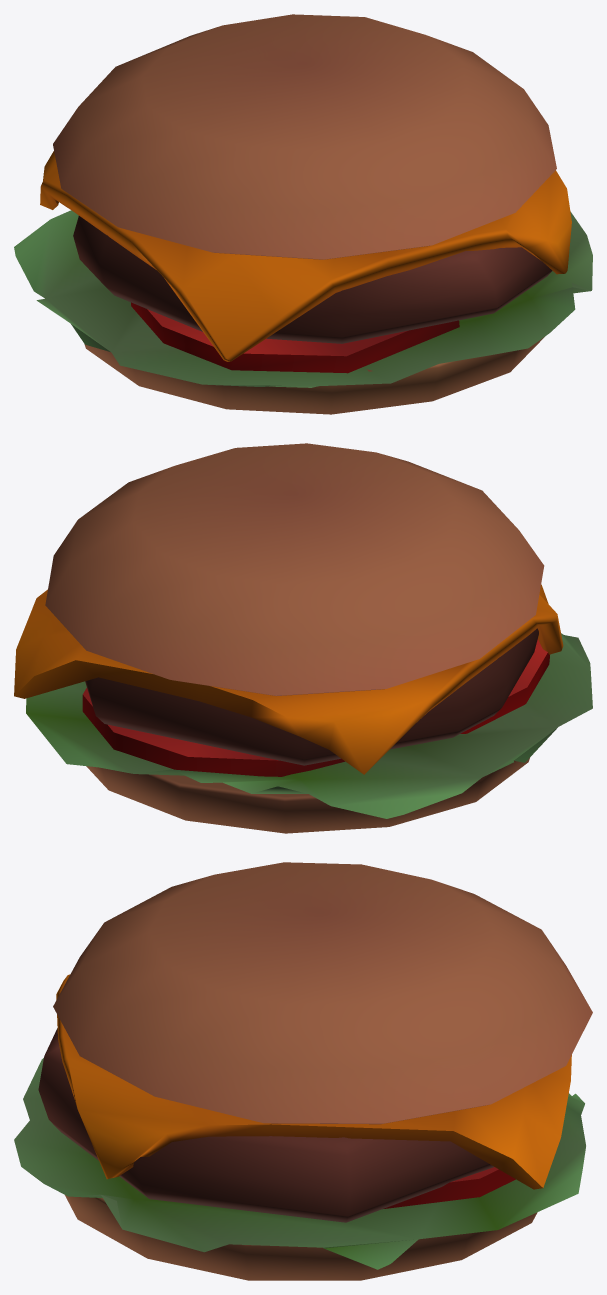
3 views of the same model, one above another, from view 1: azimuth 30°, elevation 25°; view 2: azimuth 150°, elevation 25°; view 3: azimuth 270°, elevation 25° (orthographic). The views are drawn at different scales.
Visible parts, largest first — view 1: Hamburger; view 2: Hamburger; view 3: Hamburger.
Boxes of the visible parts, bbox=[...] form: Hamburger: bbox=[14, 14, 592, 414]; Hamburger: bbox=[14, 443, 592, 833]; Hamburger: bbox=[14, 862, 592, 1280].
Bounding box in the file's own units: 0.5 × 0.2383 × 0.4745.
